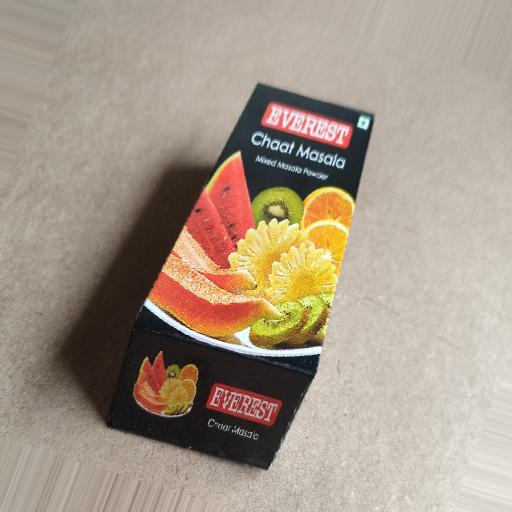Everest Chaat Masala: (62, 53, 387, 475)
